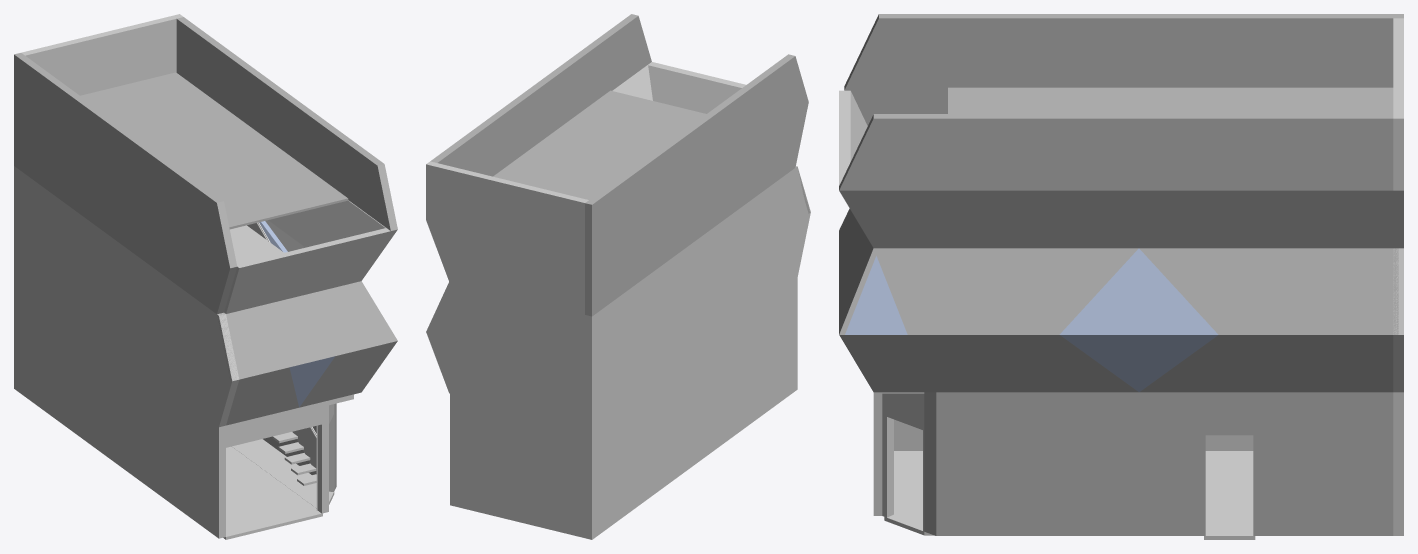
File: casa-igo.glb
The picture shows the model from 3 angles, left to right: view 1: azimuth 30°, elevation 25°; view 2: azimuth 150°, elevation 25°; view 3: azimuth 270°, elevation 25°; orthographic projection. The views are drawn at different scales.
Parts seen in each view (by area): view 1: Muro básico Por defecto - 20 cm [176425], Muro básico Por defecto - 20 cm [176353], Muro básico Por defecto - 20 cm [165677], Techo compuesto Falso techo continuo de placa de yeso lamina, Muro básico Por defecto - 20 cm [227276], Muro básico Por defecto - 10 cm [176014], Muro básico Por defecto - 20 cm [186893], Muro básico Por defecto - 20 cm [176405], Muro básico Por defecto - 20 cm [175435], Suelo Solera - 8 cm [230031], Muro básico Por defecto - 20 cm [165645], Muro básico Por defecto - 20 cm [186894] (+9 smaller); view 2: Muro básico Por defecto - 20 cm [176425], Muro básico Por defecto - 20 cm [176353], Muro básico Por defecto - 20 cm [165677], Muro básico Por defecto - 20 cm [175433], Muro básico Por defecto - 20 cm [186893], Muro básico Por defecto - 20 cm [165592], Muro básico Por defecto - 20 cm [227276], Techo compuesto Falso techo continuo de placa de yeso lamina, Muro básico Por defecto - 20 cm [176405], Muro básico Por defecto - 20 cm [186894], Muro básico Por defecto - 20 cm [165645]; view 3: Muro básico Por defecto - 20 cm [165616], Muro básico Por defecto - 20 cm [176425], Muro básico Por defecto - 20 cm [227276], Muro básico Por defecto - 10 cm [185381], Muro básico Por defecto - 20 cm [186894], Muro básico Por defecto - 20 cm [185380], Ventanas 1 Ventanas 1 [231537], Techo compuesto Falso techo continuo de placa de yeso lamina, Muro básico Por defecto - 10 cm [176014], Suelo Solera - 8 cm [229207], Muro básico Por defecto - 20 cm [186893], Muro básico Por defecto - 20 cm [190889] (+8 smaller).
Part boxes in pixels (box(x1,y1,x2,y2)): Muro básico Por defecto - 20 cm [176425]: box(14, 53, 237, 314); Muro básico Por defecto - 20 cm [176353]: box(18, 169, 239, 427); Muro básico Por defecto - 20 cm [165677]: box(18, 280, 214, 535); Techo compuesto Falso techo continuo de placa de yeso lamina: box(80, 72, 348, 229); Muro básico Por defecto - 20 cm [227276]: box(176, 17, 397, 230); Muro básico Por defecto - 10 cm [176014]: box(217, 281, 397, 380); Muro básico Por defecto - 20 cm [186893]: box(21, 14, 183, 95); Muro básico Por defecto - 20 cm [176405]: box(224, 228, 397, 313); Muro básico Por defecto - 20 cm [175435]: box(226, 341, 397, 425); Suelo Solera - 8 cm [230031]: box(223, 446, 322, 539); Muro básico Por defecto - 20 cm [165645]: box(215, 401, 323, 538); Muro básico Por defecto - 20 cm [186894]: box(268, 200, 385, 247); Muro básico Por defecto - 20 cm [176425]: box(585, 54, 808, 316); Muro básico Por defecto - 20 cm [176353]: box(596, 166, 810, 424); Muro básico Por defecto - 20 cm [165677]: box(596, 281, 793, 536); Muro básico Por defecto - 20 cm [175433]: box(426, 281, 596, 427); Muro básico Por defecto - 20 cm [186893]: box(426, 161, 588, 314); Muro básico Por defecto - 20 cm [165592]: box(450, 393, 596, 539); Muro básico Por defecto - 20 cm [227276]: box(430, 14, 651, 176); Techo compuesto Falso techo continuo de placa de yeso lamina: box(493, 90, 706, 199); Muro básico Por defecto - 20 cm [176405]: box(648, 62, 745, 113); Muro básico Por defecto - 20 cm [186894]: box(612, 65, 652, 100); Muro básico Por defecto - 20 cm [165645]: box(793, 278, 797, 392); Muro básico Por defecto - 20 cm [165616]: box(924, 392, 1393, 535); Muro básico Por defecto - 20 cm [176425]: box(844, 14, 1403, 125); Muro básico Por defecto - 20 cm [227276]: box(839, 114, 1393, 190); Muro básico Por defecto - 10 cm [185381]: box(876, 248, 1398, 334); Muro básico Por defecto - 20 cm [186894]: box(851, 190, 1393, 248); Muro básico Por defecto - 20 cm [185380]: box(851, 335, 1393, 392); Ventanas 1 Ventanas 1 [231537]: box(845, 248, 1218, 392); Techo compuesto Falso techo continuo de placa de yeso lamina: box(948, 87, 1393, 113); Muro básico Por defecto - 10 cm [176014]: box(839, 208, 878, 334); Suelo Solera - 8 cm [229207]: box(884, 498, 1255, 539); Muro básico Por defecto - 20 cm [186893]: box(1393, 18, 1403, 248); Muro básico Por defecto - 20 cm [190889]: box(884, 393, 924, 531).
Bounding box in the file's own units: 4.67 × 9.08 × 10.65.
